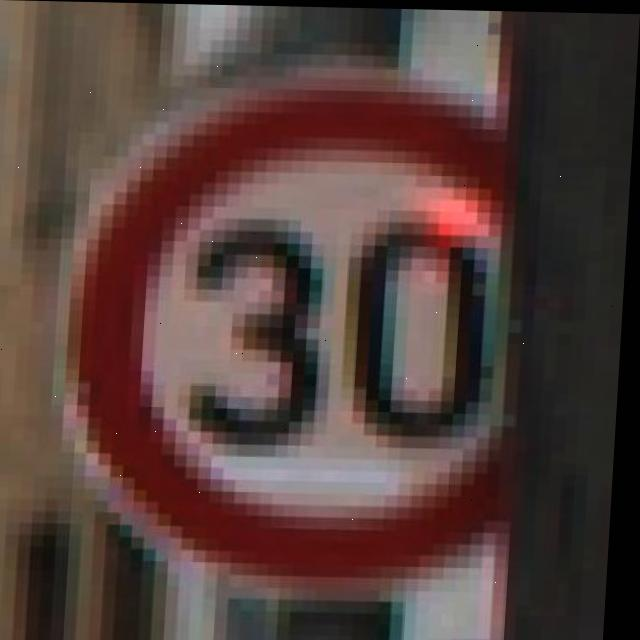Speed limit 30: (62, 70, 542, 583)
